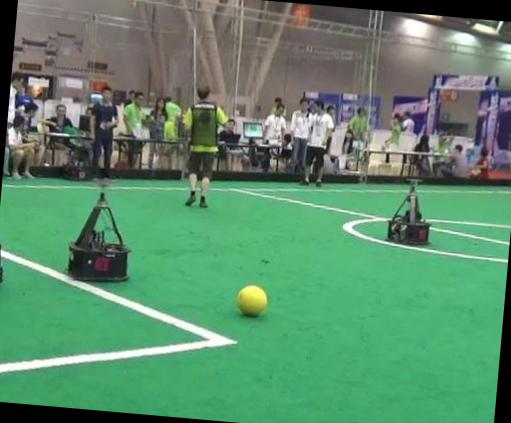ball: (236, 285, 267, 315)
person: (183, 87, 228, 207), (301, 101, 334, 186)
robot: (67, 191, 127, 280), (386, 189, 428, 243)
